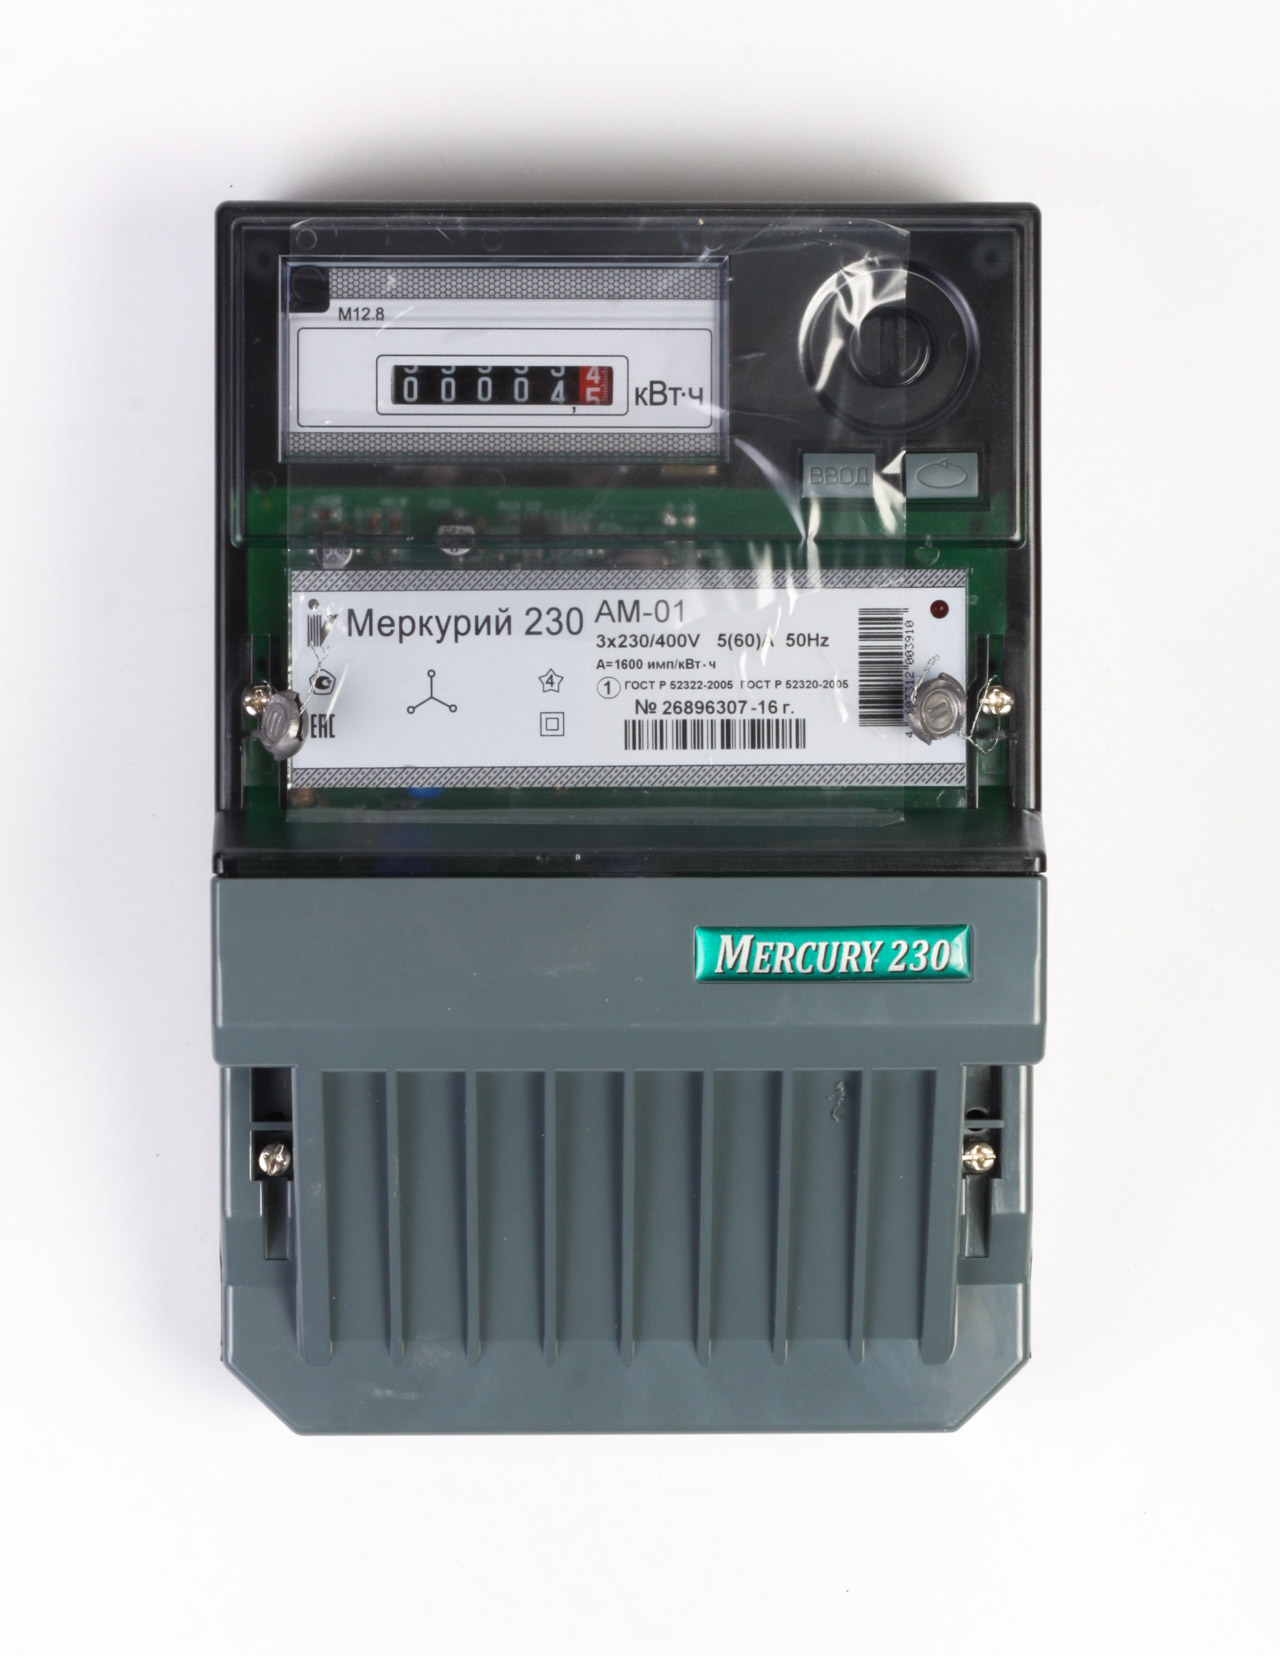counter: (206, 190, 1053, 1466)
counter_screen: (378, 345, 632, 421)
